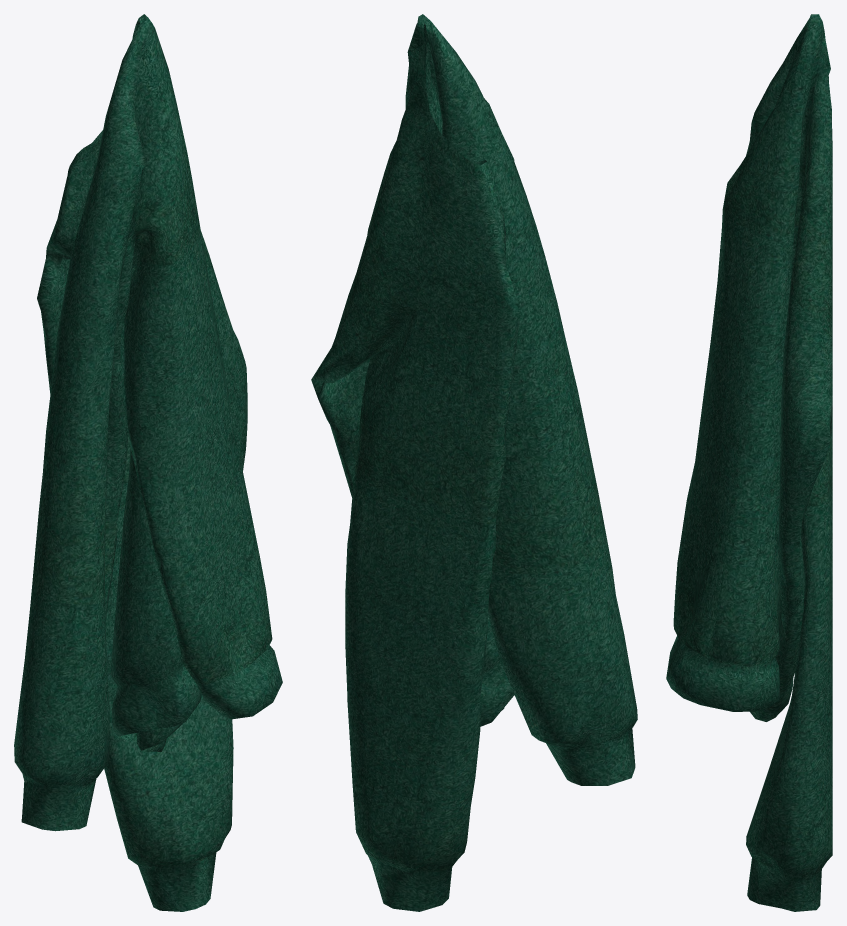
Rendered from Sweatshirt.FBX.
The picture shows the model from 3 angles, left to right: view 1: azimuth 30°, elevation 25°; view 2: azimuth 150°, elevation 25°; view 3: azimuth 270°, elevation 25°; orthographic projection. The views are drawn at different scales.
Parts seen in each view (by area): view 1: Sweatshirt; view 2: Sweatshirt; view 3: Sweatshirt.
Boxes of the visible parts, <box> form: Sweatshirt: <box>14,14,282,911</box>; Sweatshirt: <box>311,14,637,911</box>; Sweatshirt: <box>666,14,832,911</box>.
Bounding box in the file's own units: 22.19 × 70.38 × 12.07.
Materials: 1 (1 with a texture image).
